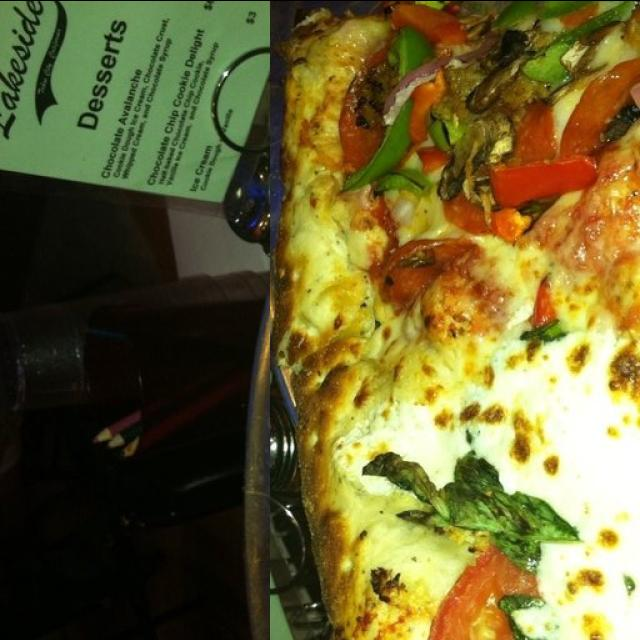basil: (362, 68, 577, 189)
pizza: (270, 0, 640, 640)
